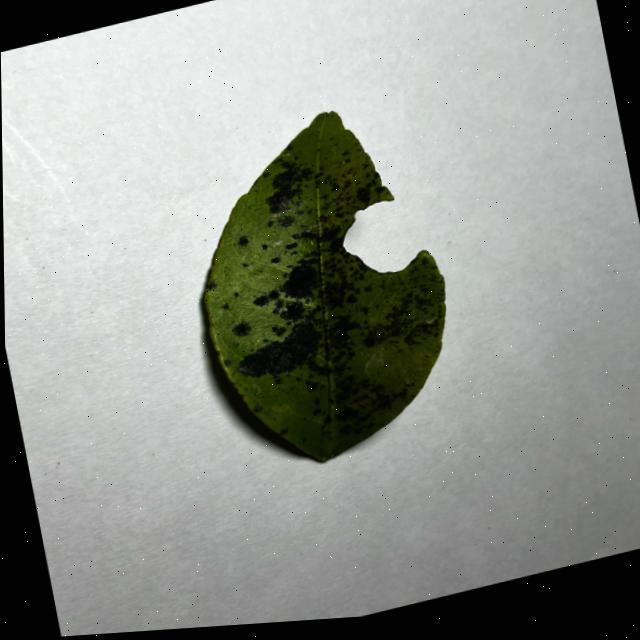sooty_mold: (205, 112, 445, 459)
